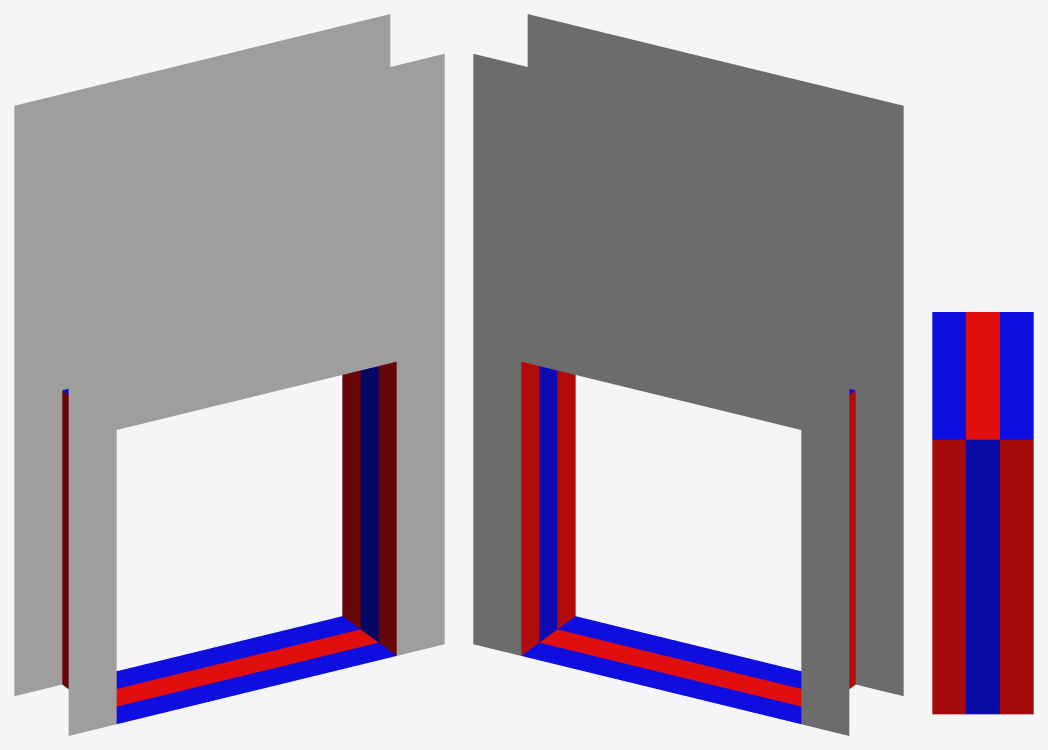
Rendered from Portal.glb.
The picture shows the model from 3 angles, left to right: view 1: azimuth 30°, elevation 25°; view 2: azimuth 150°, elevation 25°; view 3: azimuth 270°, elevation 25°; orthographic projection. The views are drawn at different scales.
Parts seen in each view (by area): view 1: Muro; view 2: Muro; view 3: Muro.
Part boxes in pixels (x1,y1,x2,y2): Muro: [14, 14, 444, 735]; Muro: [473, 14, 903, 735]; Muro: [932, 312, 1033, 714].
Bounding box in the file's own units: 4 × 6 × 1.
